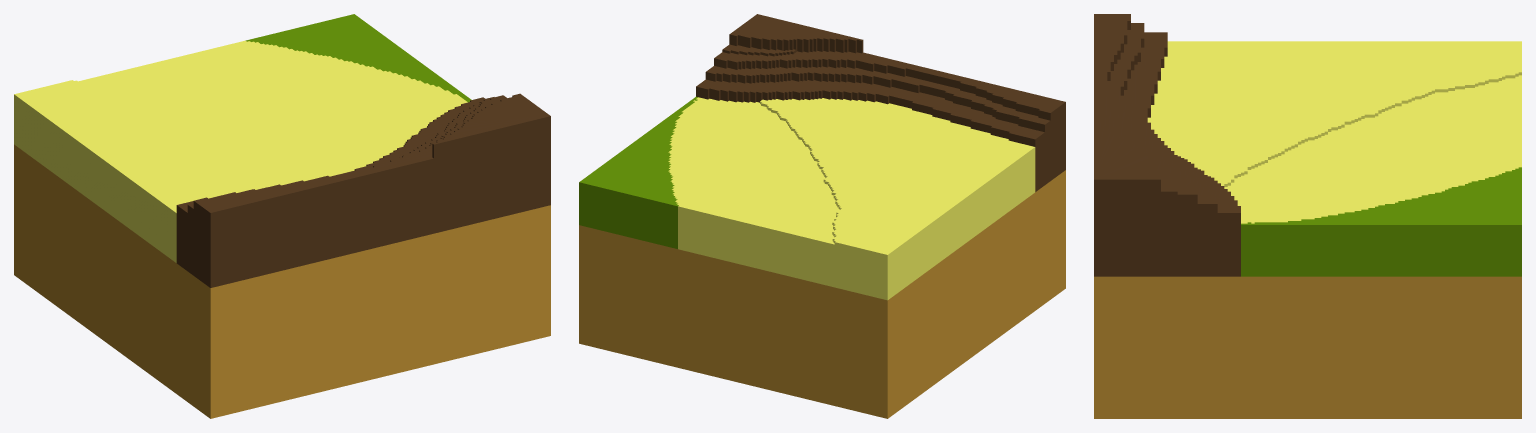
3 views of the same model, side by side, from view 1: azimuth 30°, elevation 25°; view 2: azimuth 150°, elevation 25°; view 3: azimuth 270°, elevation 25° (orthographic). The views are drawn at different scales.
Parts seen in each view (by area): view 1: 4N; view 2: 4N; view 3: 4N.
Boxes of the visible parts, bbox=[...] form: 4N: bbox=[14, 14, 550, 418]; 4N: bbox=[579, 14, 1065, 418]; 4N: bbox=[1094, 14, 1521, 418].
Bounding box in the file's own units: 12.8 × 7.9 × 12.8.
1 material, 1 textured.
